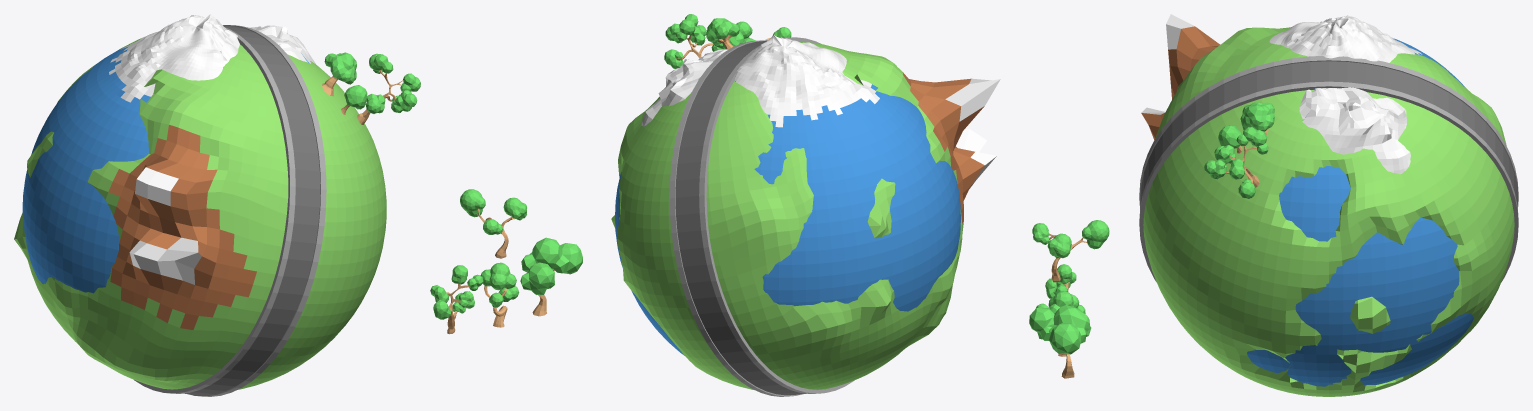
Rendered from little_earth+trees.gltf.
The picture shows the model from 3 angles, left to right: view 1: azimuth 30°, elevation 25°; view 2: azimuth 150°, elevation 25°; view 3: azimuth 270°, elevation 25°; orthographic projection. The views are drawn at different scales.
Parts seen in each view (by area): view 1: Sphere, Sphere.001, Cylinder, Cylinder.001, Cylinder.002, LowPoly_Tree_07_lowpoly_tree_04_Plane.012, LowPoly_Tree_04_lowpoly_tree_05_Mesh.001, LowPoly_Tree_05_lowpoly_tree_03_Cube, LowPoly_Tree_03_lowpoly_tree_01_Plane.013, LowPoly_Tree_06_lowpoly_tree_02_Mesh.005, LowPoly_Tree_02_Cube.000, LowPoly_Tree_01_Plane_Plane.000; view 2: Sphere, Sphere.001, Cylinder, Cylinder.001, Cylinder.002, LowPoly_Tree_04_lowpoly_tree_05_Mesh.001, LowPoly_Tree_02_Cube.000, LowPoly_Tree_03_lowpoly_tree_01_Plane.013, LowPoly_Tree_02_Cube.001; view 3: Sphere, Sphere.001, Cylinder, Cylinder.002, Cylinder.001, LowPoly_Tree_07_lowpoly_tree_04_Plane.012, LowPoly_Tree_04_lowpoly_tree_05_Mesh.001, LowPoly_Tree_03_lowpoly_tree_01_Plane.013, LowPoly_Tree_02_Cube.000, LowPoly_Tree_05_lowpoly_tree_03_Cube, LowPoly_Tree_06_lowpoly_tree_02_Mesh.005, LowPoly_Tree_01_Plane_Plane.000.
Boxes of the visible parts, x1,y1,x2,y2 form: Sphere: (14, 38, 386, 389); Sphere.001: (22, 14, 315, 293); Cylinder: (184, 25, 320, 395); Cylinder.001: (134, 27, 295, 393); Cylinder.002: (187, 25, 326, 396); LowPoly_Tree_07_lowpoly_tree_04_Plane.012: (520, 237, 582, 316); LowPoly_Tree_04_lowpoly_tree_05_Mesh.001: (357, 53, 420, 124); LowPoly_Tree_05_lowpoly_tree_03_Cube: (430, 265, 483, 334); LowPoly_Tree_03_lowpoly_tree_01_Plane.013: (460, 189, 526, 258); LowPoly_Tree_06_lowpoly_tree_02_Mesh.005: (480, 262, 519, 327); LowPoly_Tree_02_Cube.000: (322, 52, 356, 96); LowPoly_Tree_01_Plane_Plane.000: (341, 85, 367, 114); Sphere: (611, 41, 1000, 390); Sphere.001: (615, 34, 960, 355); Cylinder: (675, 40, 806, 395); Cylinder.001: (699, 37, 854, 393); Cylinder.002: (669, 40, 801, 396); LowPoly_Tree_04_lowpoly_tree_05_Mesh.001: (664, 14, 723, 68); LowPoly_Tree_02_Cube.000: (706, 18, 738, 49); LowPoly_Tree_03_lowpoly_tree_01_Plane.013: (736, 21, 791, 42); LowPoly_Tree_02_Cube.001: (706, 26, 739, 48); Sphere: (1141, 14, 1514, 396); Sphere.001: (1247, 15, 1473, 386); Cylinder: (1140, 61, 1517, 204); Cylinder.002: (1139, 81, 1518, 282); Cylinder.001: (1139, 56, 1518, 208); LowPoly_Tree_07_lowpoly_tree_04_Plane.012: (1029, 305, 1091, 378); LowPoly_Tree_04_lowpoly_tree_05_Mesh.001: (1204, 127, 1268, 198); LowPoly_Tree_03_lowpoly_tree_01_Plane.013: (1032, 220, 1109, 282); LowPoly_Tree_02_Cube.000: (1240, 102, 1274, 134); LowPoly_Tree_05_lowpoly_tree_03_Cube: (1045, 264, 1085, 313); LowPoly_Tree_06_lowpoly_tree_02_Mesh.005: (1036, 291, 1079, 356); LowPoly_Tree_01_Plane_Plane.000: (1218, 125, 1242, 153).
Size of the model in its own units: 25.5 by 21.46 by 26.22.
